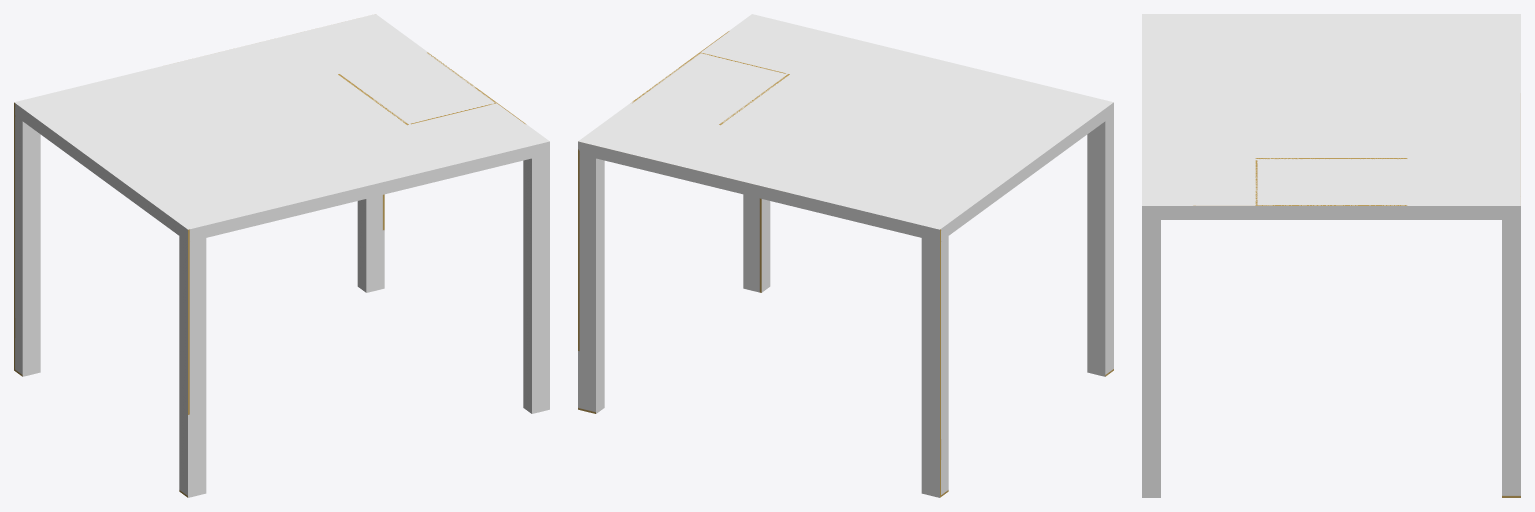
The model's file is shelfandtable.obj.
3 views of the same model, side by side, from view 1: azimuth 30°, elevation 25°; view 2: azimuth 150°, elevation 25°; view 3: azimuth 270°, elevation 25° (orthographic). The views are drawn at different scales.
Visible parts, largest first — view 1: Shelf2_Shelf2.001; view 2: Shelf2_Shelf2.001; view 3: Shelf2_Shelf2.001.
Boxes of the visible parts, x1,y1,x2,y2 form: Shelf2_Shelf2.001: (14,14,549,497); Shelf2_Shelf2.001: (578,14,1113,497); Shelf2_Shelf2.001: (1142,14,1520,497).
Bounding box in the file's own units: 1.2 × 0.85 × 1.
